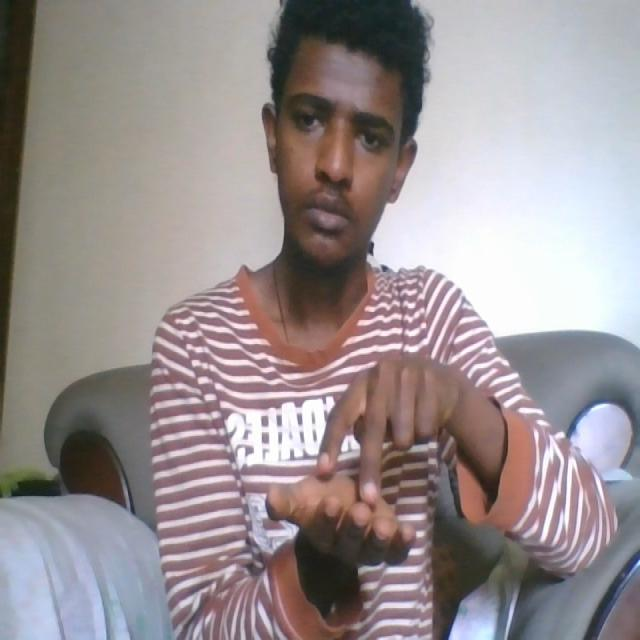mezlel: (266, 352, 453, 552)
